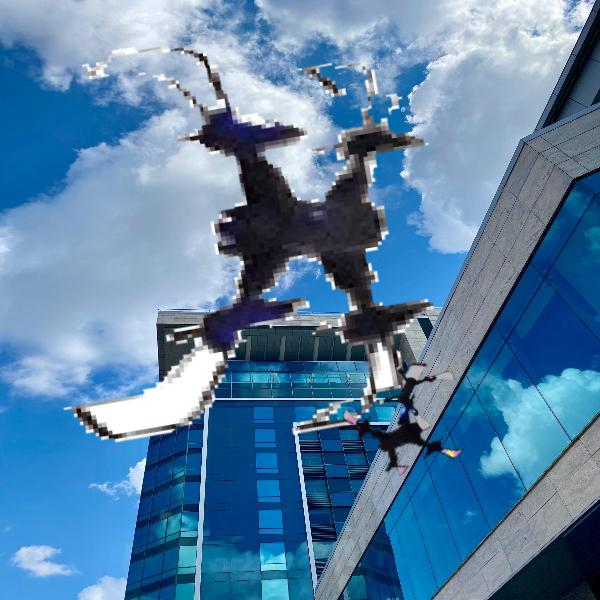drone: (18, 8, 471, 461), (348, 353, 481, 486), (380, 358, 453, 431)
